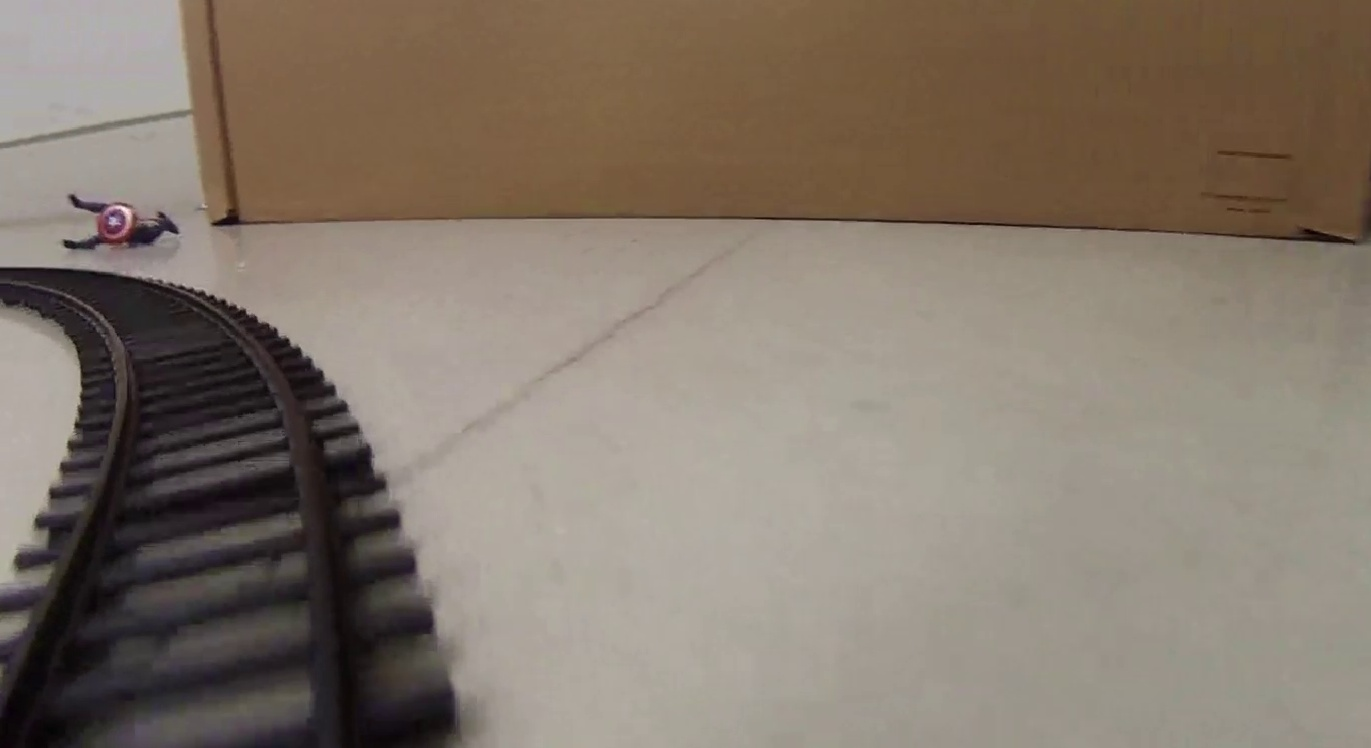people: (66, 195, 185, 252)
